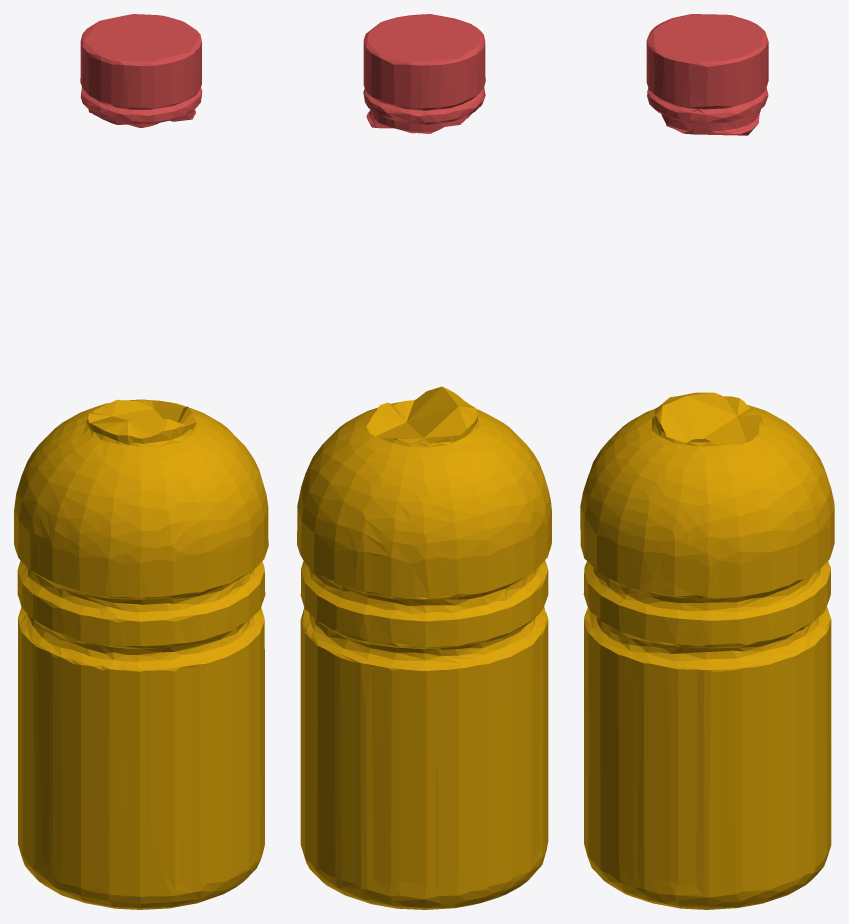
File: fractured_7_2pcs_transformed.glb
The picture shows the model from 3 angles, left to right: view 1: azimuth 30°, elevation 25°; view 2: azimuth 150°, elevation 25°; view 3: azimuth 270°, elevation 25°; orthographic projection.
Parts seen in each view (by area): view 1: piece_0.obj, piece_1.obj; view 2: piece_0.obj, piece_1.obj; view 3: piece_0.obj, piece_1.obj.
Boxes of the visible parts, x1,y1,x2,y2 form: piece_0.obj: [14, 399, 268, 909]; piece_1.obj: [80, 14, 202, 127]; piece_0.obj: [297, 386, 551, 909]; piece_1.obj: [363, 14, 485, 133]; piece_0.obj: [580, 392, 834, 909]; piece_1.obj: [646, 14, 768, 135].
Size of the model in its own units: 0.4463 by 1.6 by 0.4451.
